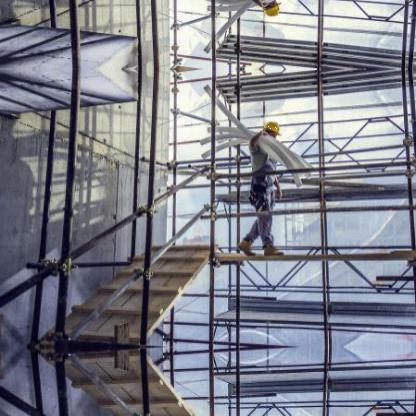safetyhelmet: (264, 122, 281, 134)
